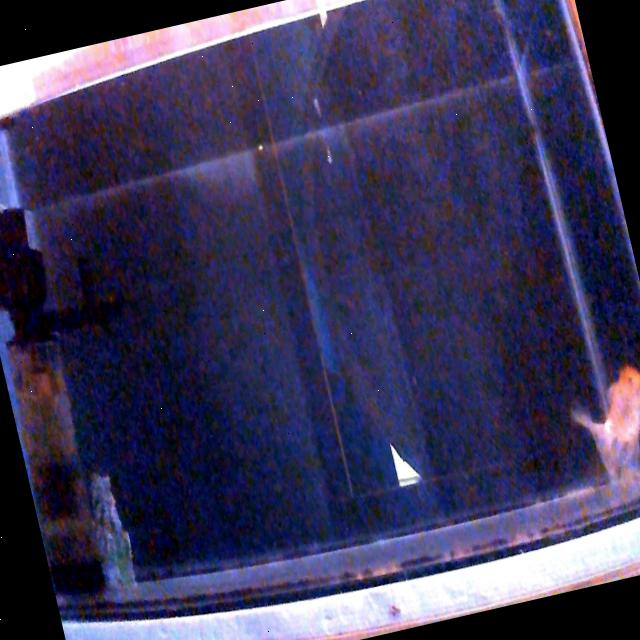fish: (561, 360, 640, 490)
